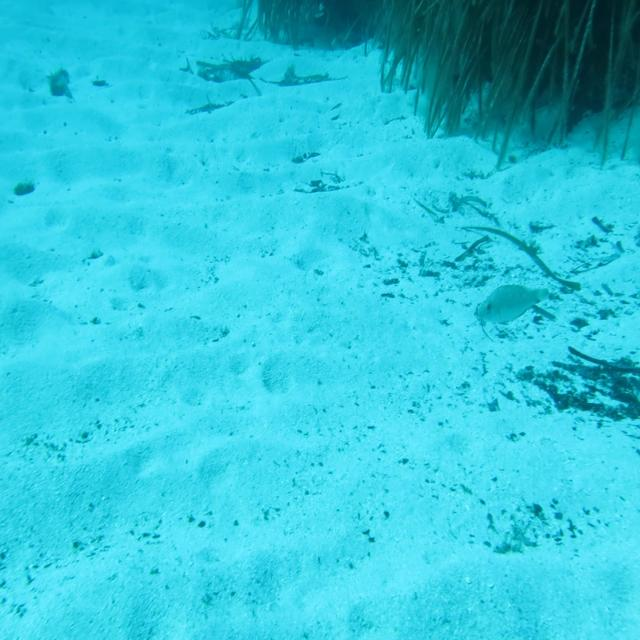AM: (477, 282, 550, 329)
vegetation: (352, 51, 640, 153), (242, 0, 640, 52), (514, 362, 640, 408), (473, 303, 486, 337)
